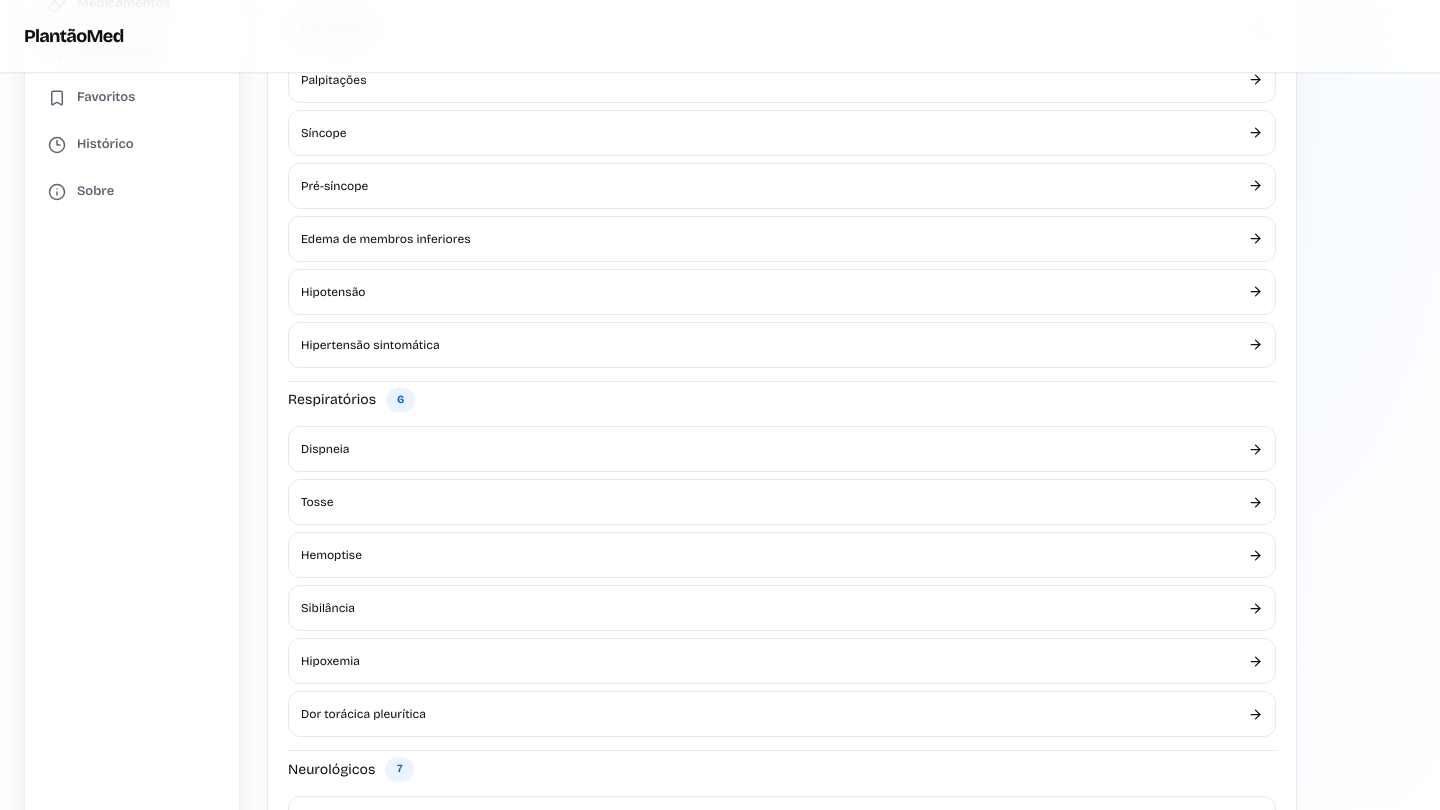
Test: PlantãoMed independent routes › lists cataloged presentations and opens a stable detail route
The image size is (1440, 810).
(page scrolled)
Click the link "Dispneia" at (325, 449), box [288,426,1276,472]
(page scrolled)
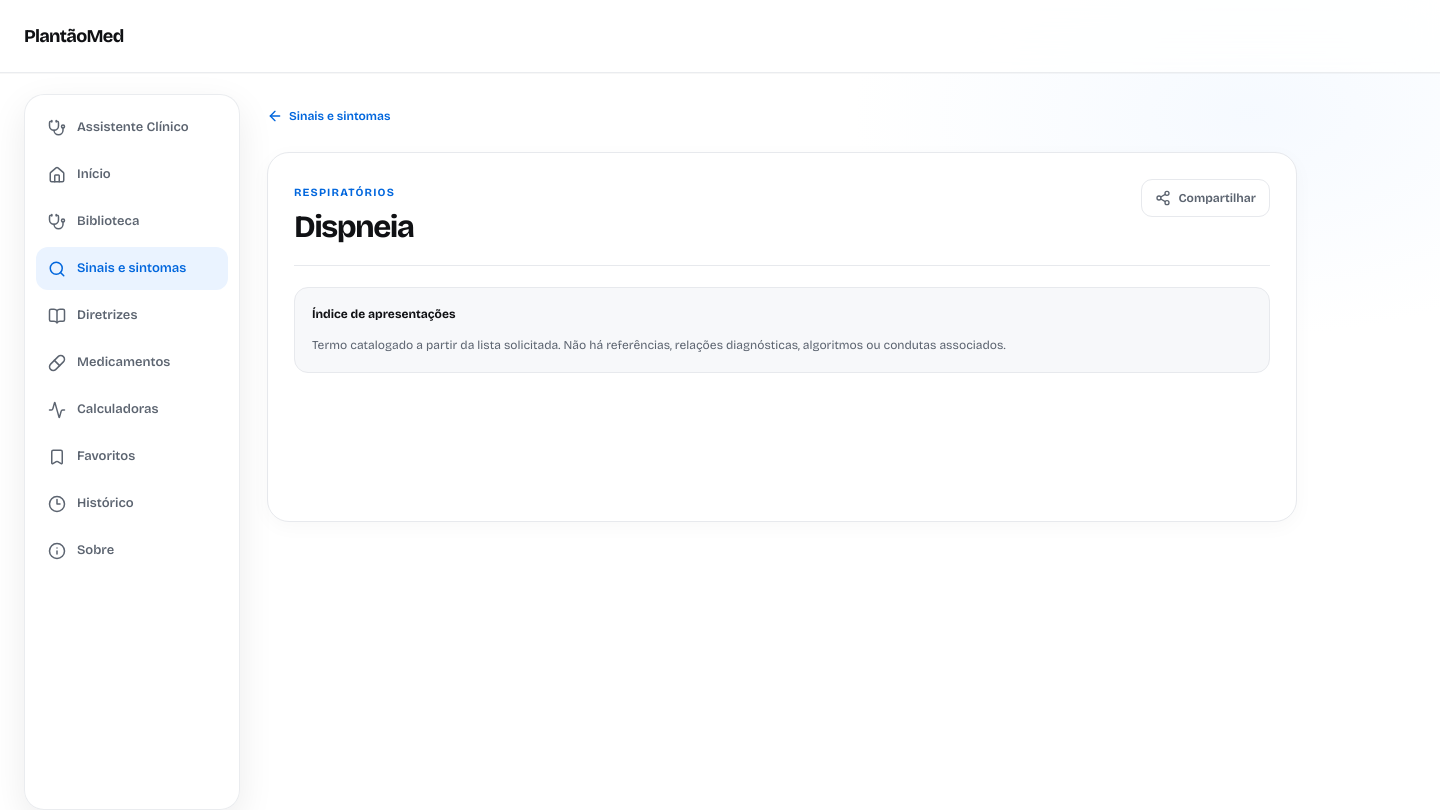
Expected: the heading "Dispneia" is shown, [294,209,414,245]
Expected: the text "Não há referências, relações diagnósticas, algoritmos ou condutas associados" is shown, [312,338,1006,352]
